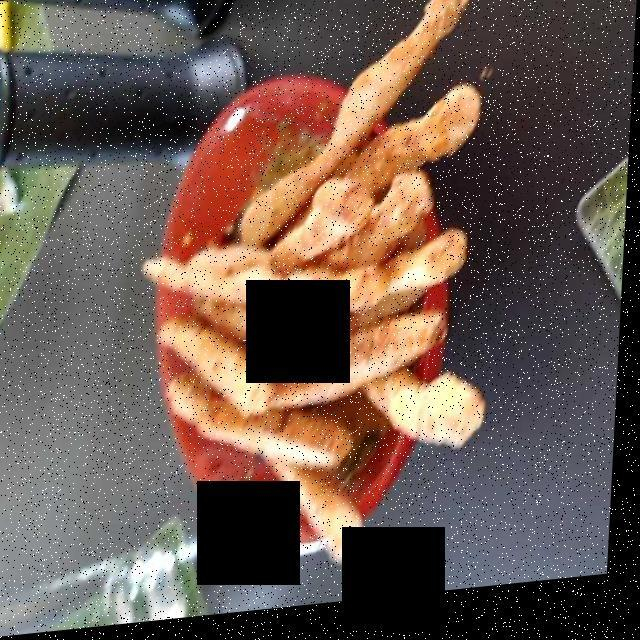puff-pastry: (173, 0, 491, 544)
